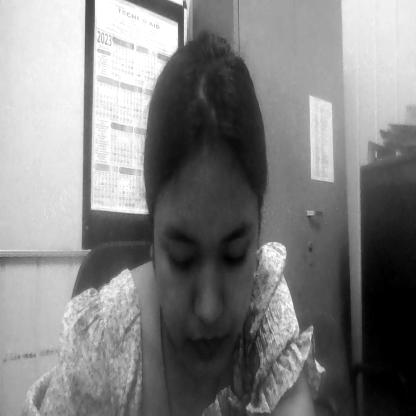Normal: (156, 150, 258, 364)
